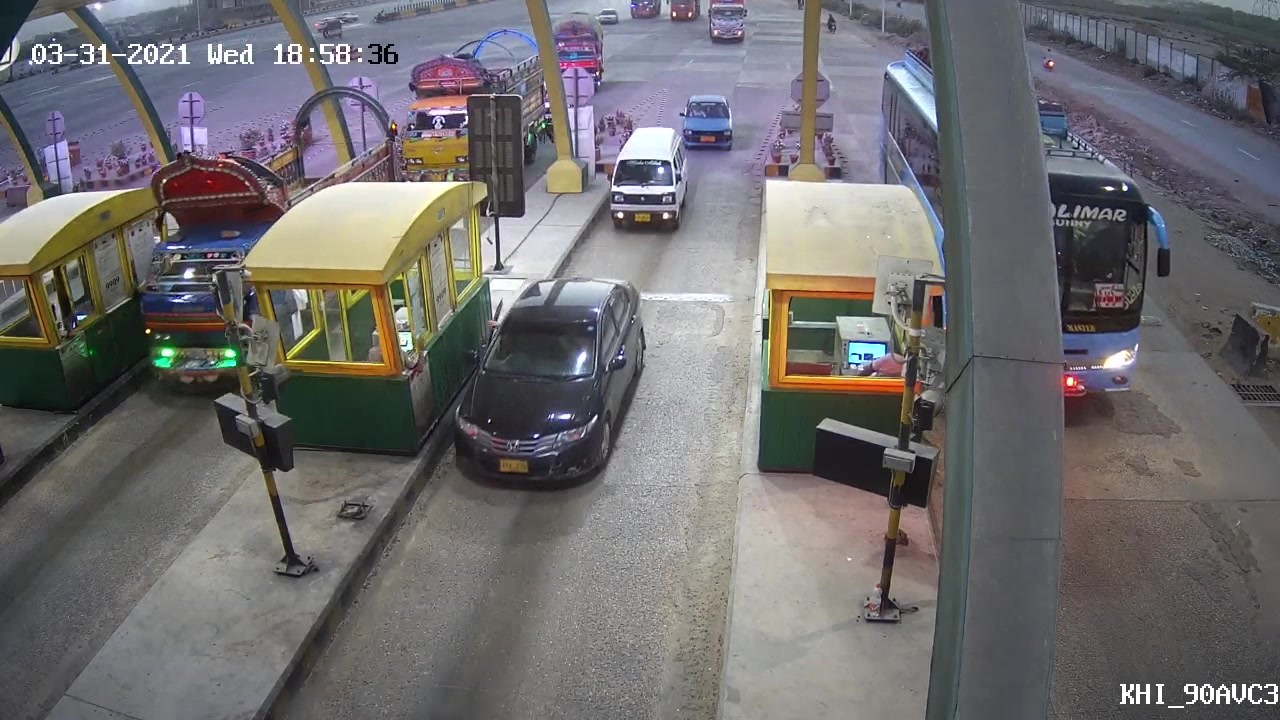F1: (455, 267, 651, 493), (610, 125, 697, 239)
